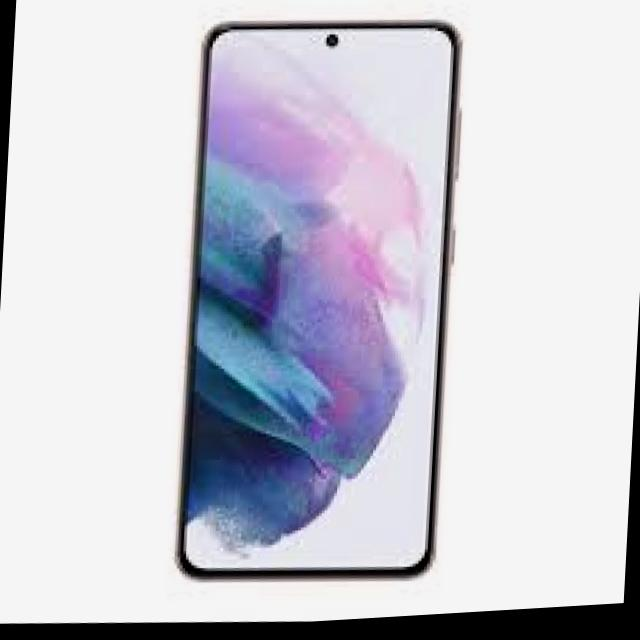Smartphone: (164, 1, 477, 613)
